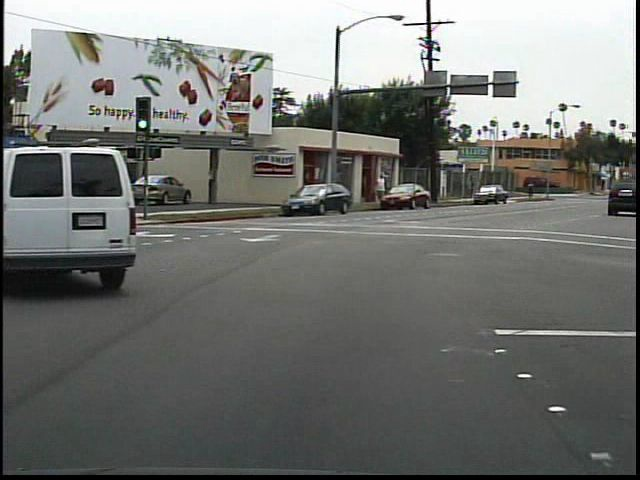person: (372, 167, 393, 209), (524, 178, 537, 201)
